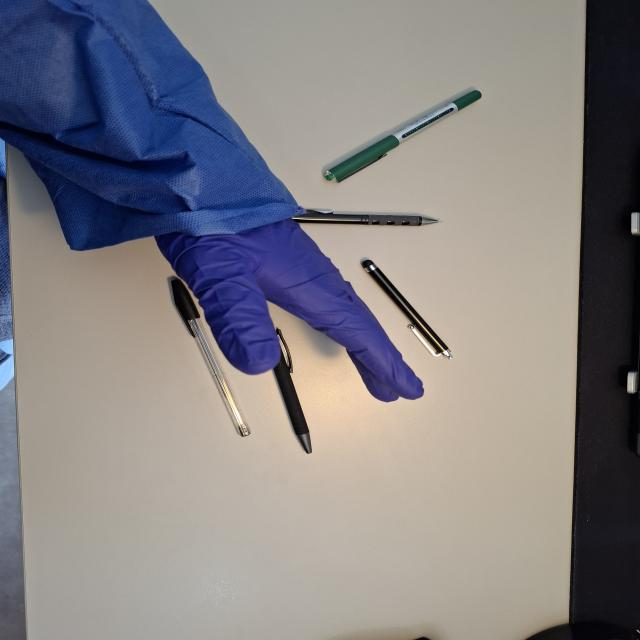glove_on: (152, 206, 429, 404)
